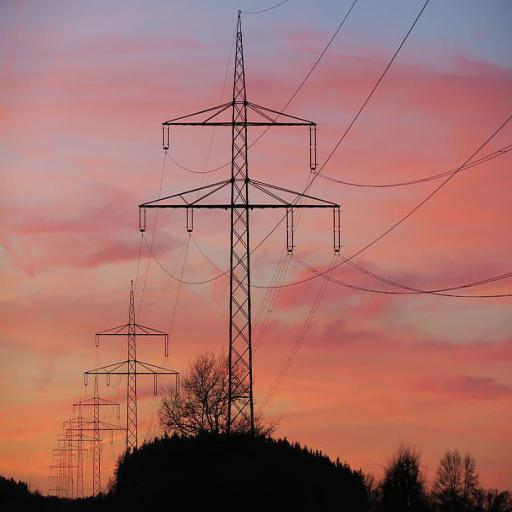ss_2: (136, 11, 344, 440), (82, 276, 182, 450), (63, 371, 129, 497), (57, 397, 103, 498), (50, 414, 86, 505)
